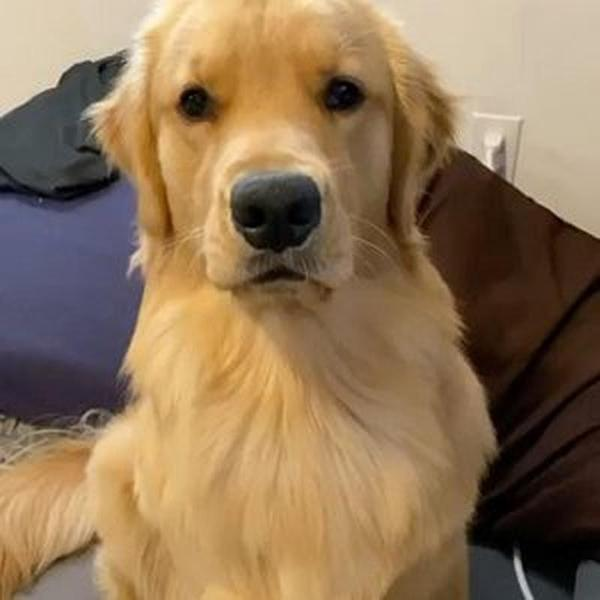allqu: (71, 4, 520, 590)
